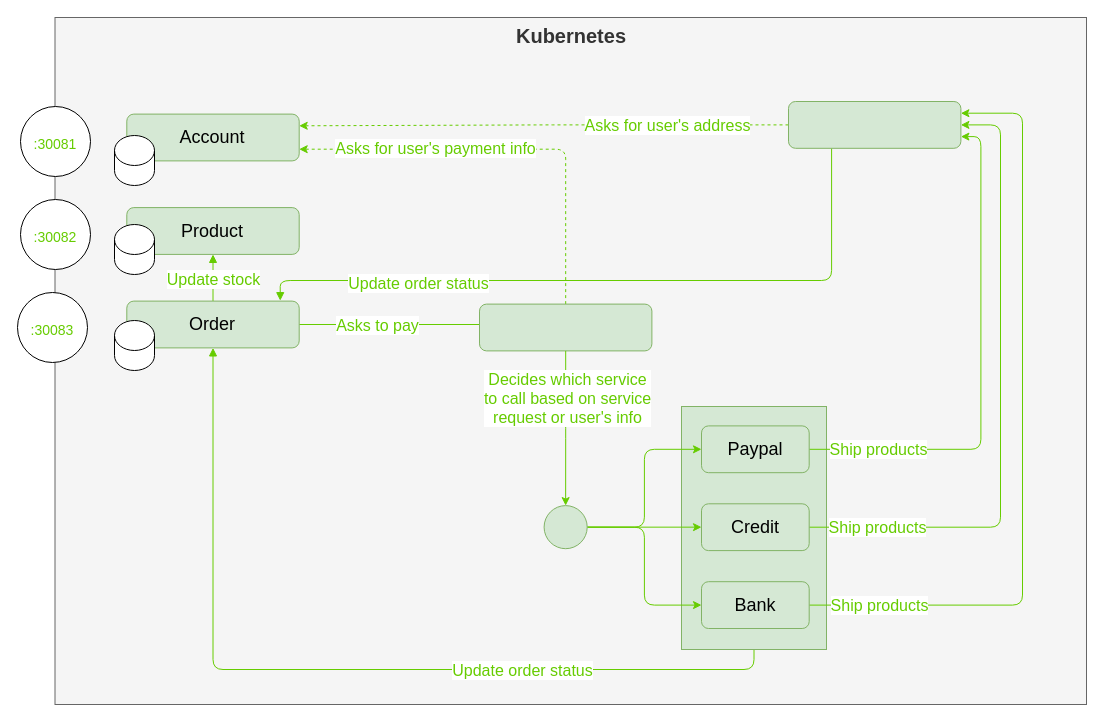
This 1104x722 diagram has some shape labels left out. Each missing label, with the centre of its shape:
Payment: [565,327]
Shipment: [874,124]
